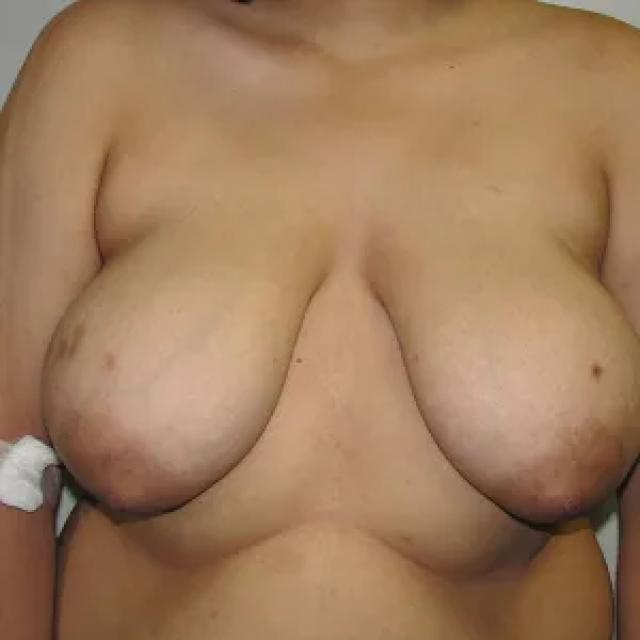Seno ileso: (31, 185, 336, 549), (356, 186, 640, 547)
